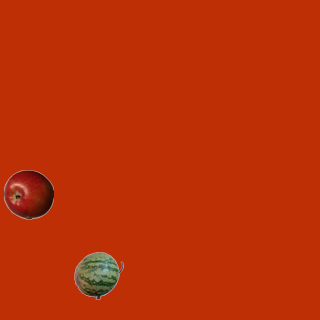Apple Braeburn: (3, 169, 53, 219)
Watermelon: (73, 250, 123, 300)
